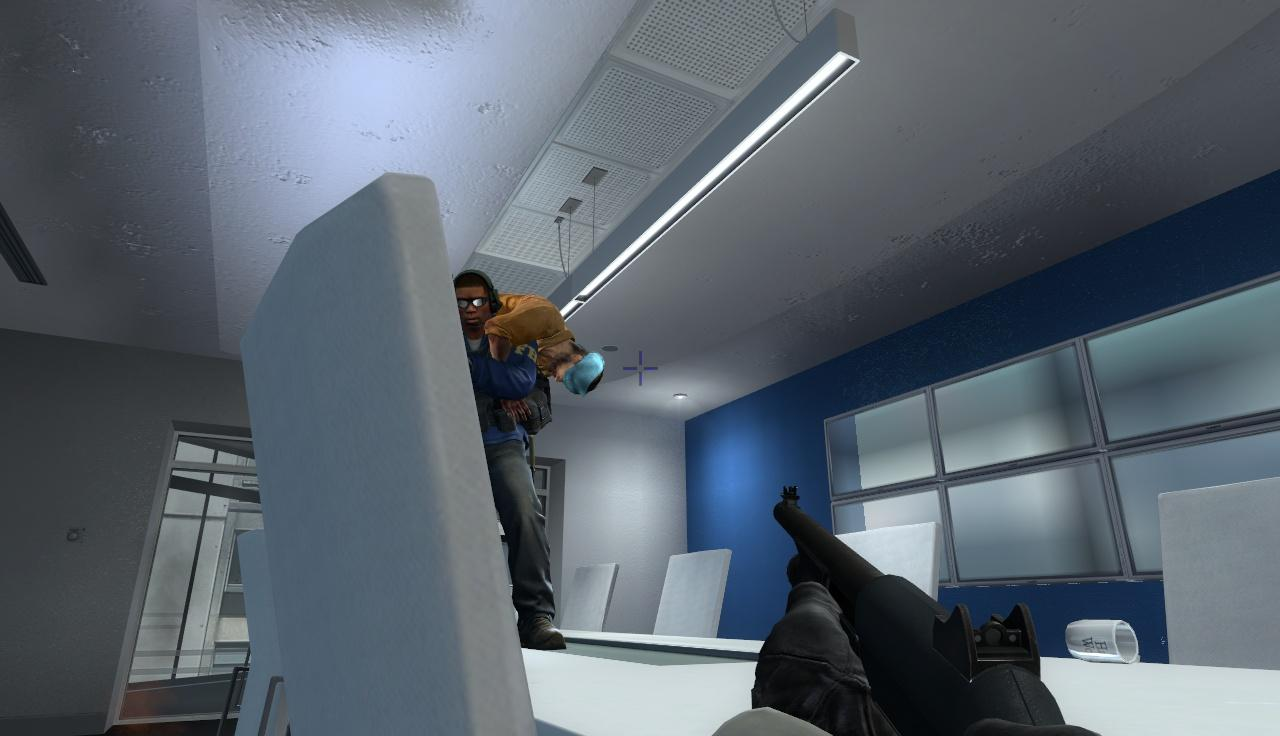ct: (449, 271, 558, 646)
cthead: (454, 271, 496, 329)
shotgun: (748, 475, 1071, 736)
